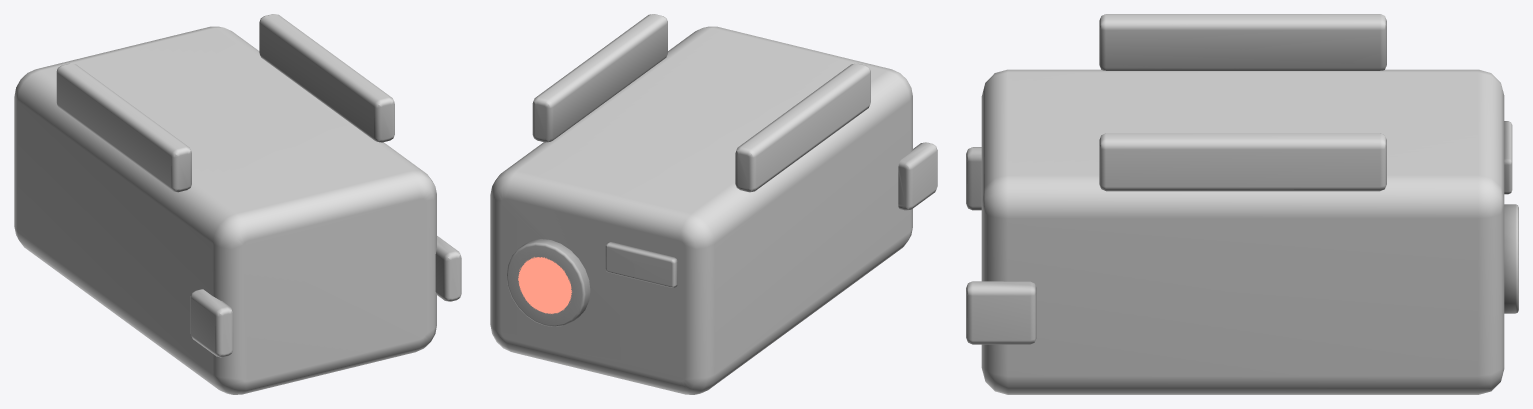
The model's file is laser.glb.
The picture shows the model from 3 angles, left to right: view 1: azimuth 30°, elevation 25°; view 2: azimuth 150°, elevation 25°; view 3: azimuth 270°, elevation 25°; orthographic projection. The views are drawn at different scales.
Visible parts, largest first — view 1: attachment; view 2: attachment; view 3: attachment.
Part boxes in pixels (left/top/right/bottom): attachment: left=14, top=14, right=461, bottom=394; attachment: left=490, top=14, right=937, bottom=394; attachment: left=966, top=14, right=1518, bottom=394.
Bounding box in the file's own units: 0.0262 × 0.0223 × 0.0423.
